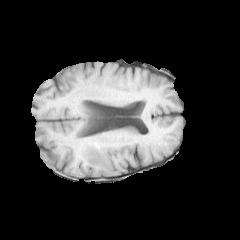glioma: (77, 136, 134, 176)
